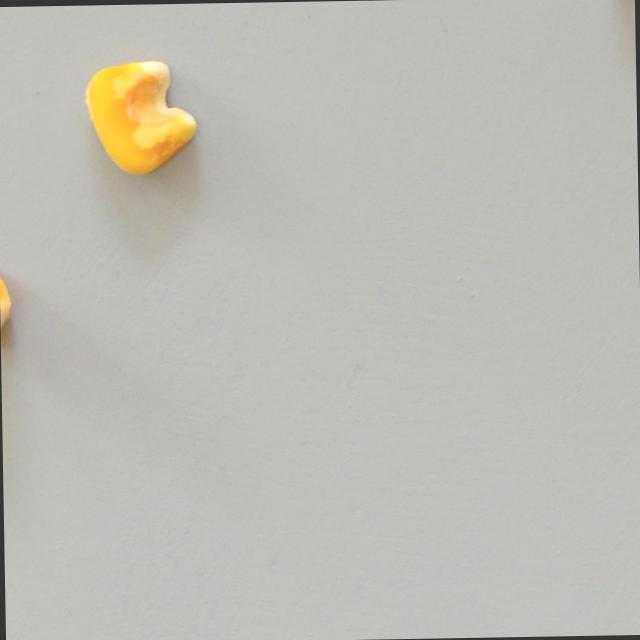dañado: (75, 54, 202, 180), (0, 261, 19, 354)
